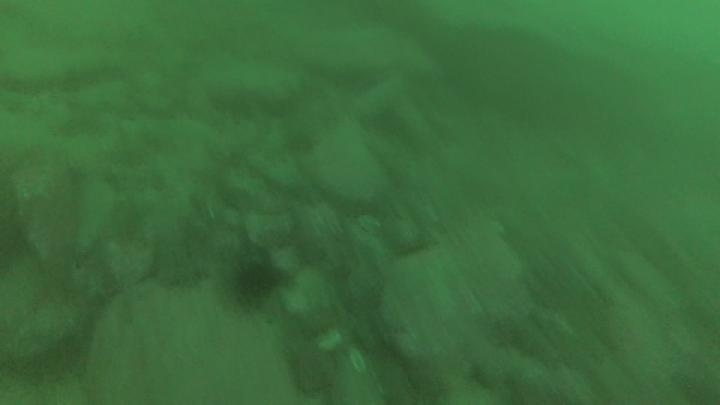echinus: (230, 258, 282, 306)
